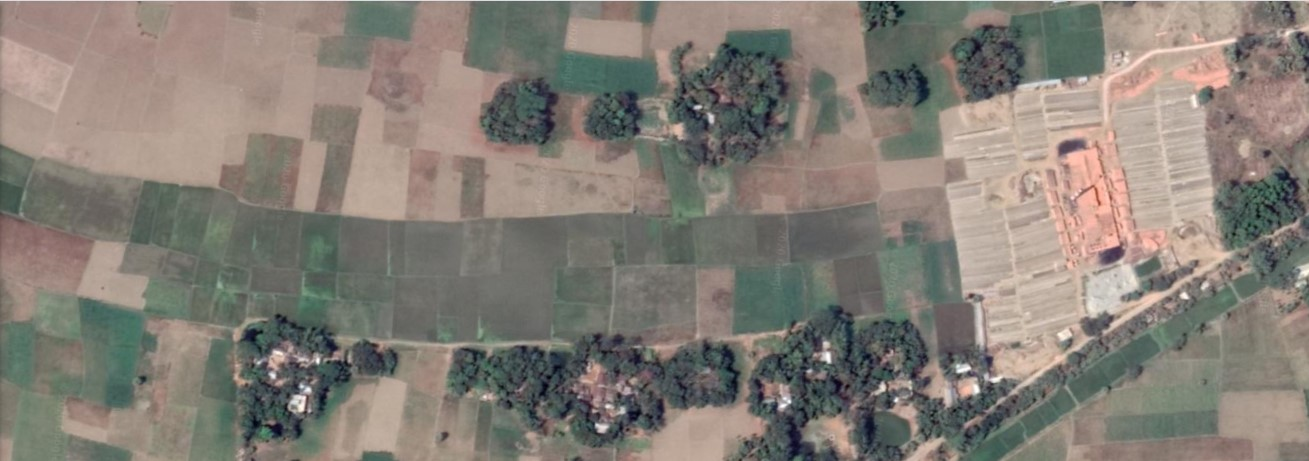kiln: (1054, 144, 1129, 255)
